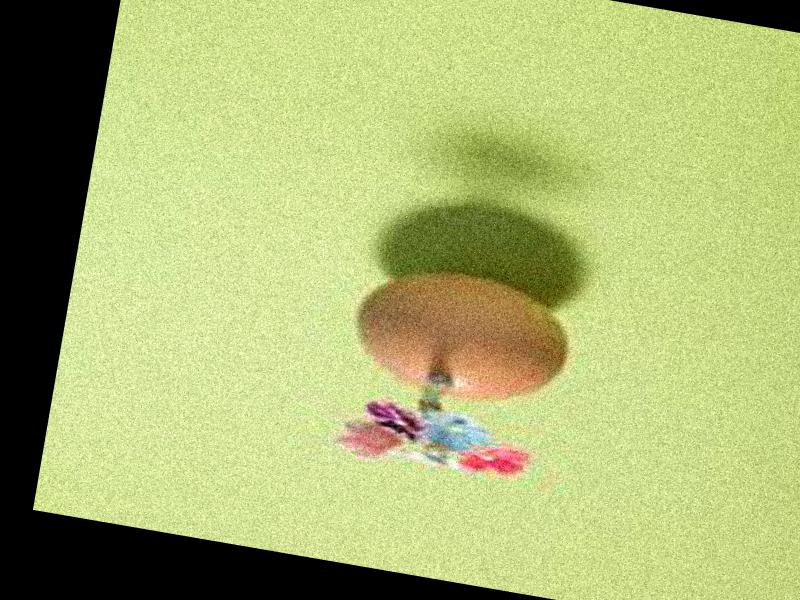Eggs: (347, 257, 575, 413)
